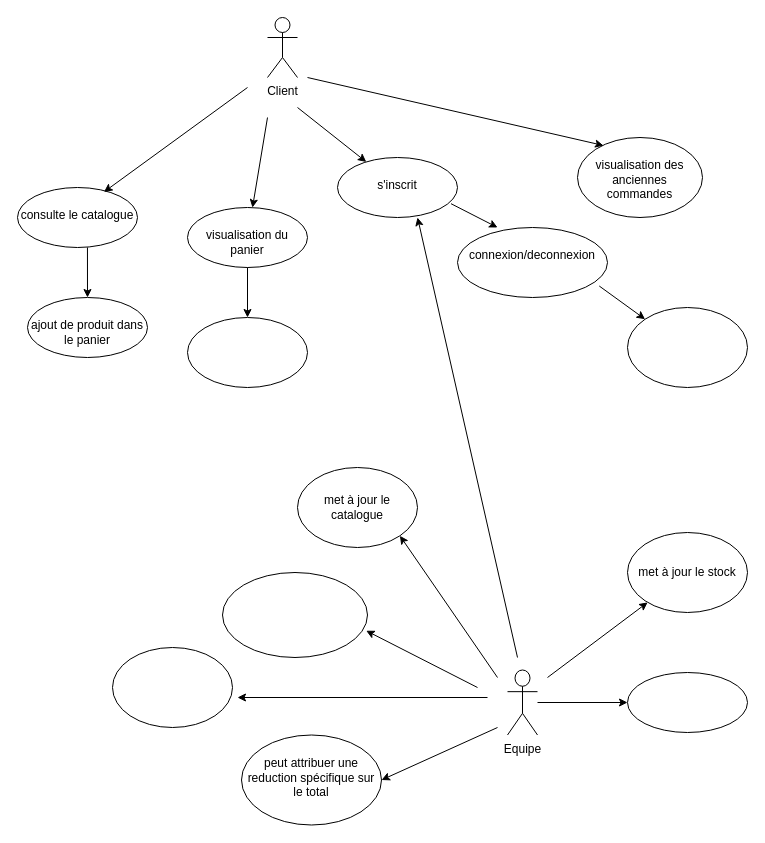
This 765x843 diagram has some shape labels left out. Each missing label, with the centre of its shape:
"gérer son profil" belongs at pixel 687 347.
"peut modifier les coefficients clients" belongs at pixel 295 615.
"validation du panier enregistrer une commande" belongs at pixel 247 352.
"valide des produits/désactive d'anciens produits" belongs at pixel 172 687.
"visualisation des commandes" belongs at pixel 687 702.
